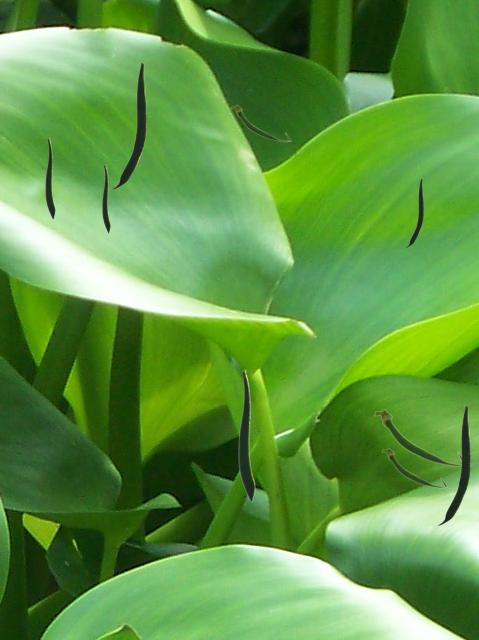french_bean: (373, 408, 460, 466), (111, 62, 145, 188), (437, 405, 469, 524), (381, 447, 446, 487), (230, 104, 290, 141), (238, 369, 254, 501), (406, 178, 422, 246), (45, 137, 54, 218), (102, 164, 109, 232)
